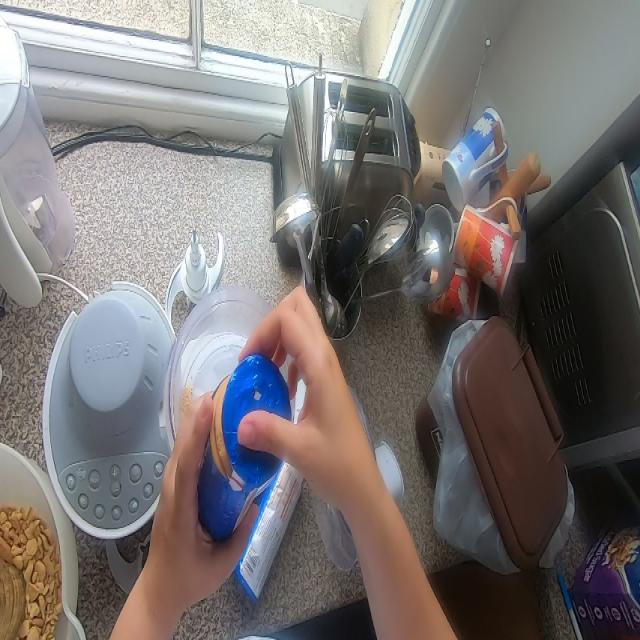bin: (422, 318, 576, 602)
biscuit packaging: (202, 336, 284, 538)
left hand: (153, 384, 225, 633)
mug: (444, 99, 506, 206), (452, 205, 528, 292)
right hand: (247, 290, 366, 528)
